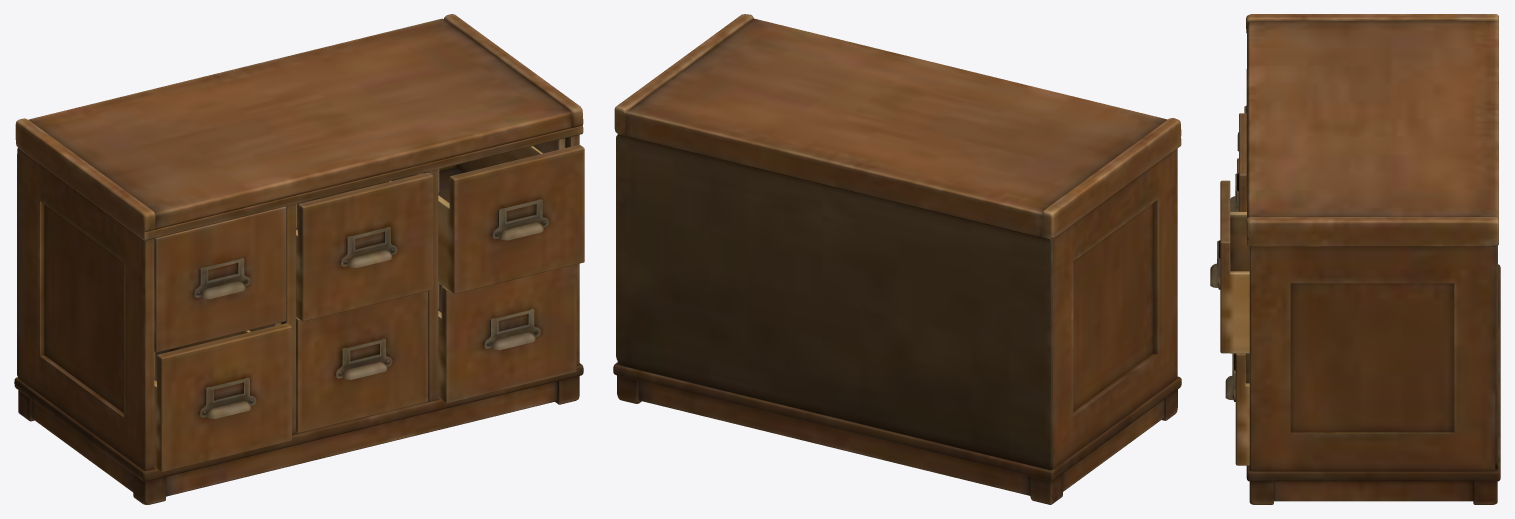
The picture shows the model from 3 angles, left to right: view 1: azimuth 30°, elevation 25°; view 2: azimuth 150°, elevation 25°; view 3: azimuth 270°, elevation 25°; orthographic projection. The views are drawn at different scales.
Visible parts, largest first — view 1: vintage_wooden_drawer_01_body, vintage_wooden_drawer_01_drawer03, vintage_wooden_drawer_01_drawer04, vintage_wooden_drawer_01_drawer02, vintage_wooden_drawer_01_drawer01, vintage_wooden_drawer_01_drawer06, vintage_wooden_drawer_01_drawer05; view 2: vintage_wooden_drawer_01_body; view 3: vintage_wooden_drawer_01_body, vintage_wooden_drawer_01_drawer03, vintage_wooden_drawer_01_drawer06, vintage_wooden_drawer_01_drawer02.
Part boxes in pixels (x1,y1,x2,y2): vintage_wooden_drawer_01_body: (14, 14, 583, 504); vintage_wooden_drawer_01_drawer03: (438, 145, 584, 293); vintage_wooden_drawer_01_drawer04: (154, 323, 291, 472); vintage_wooden_drawer_01_drawer02: (296, 172, 433, 321); vintage_wooden_drawer_01_drawer01: (154, 206, 286, 352); vintage_wooden_drawer_01_drawer06: (438, 264, 576, 403); vintage_wooden_drawer_01_drawer05: (296, 291, 428, 433); vintage_wooden_drawer_01_body: (613, 14, 1181, 504); vintage_wooden_drawer_01_body: (1246, 14, 1500, 504); vintage_wooden_drawer_01_drawer03: (1210, 180, 1249, 353); vintage_wooden_drawer_01_drawer06: (1225, 353, 1249, 465); vintage_wooden_drawer_01_drawer02: (1230, 113, 1246, 211).
Size of the model in its own units: 1.72 by 1.09 by 1.01.
1 material, 1 textured.
